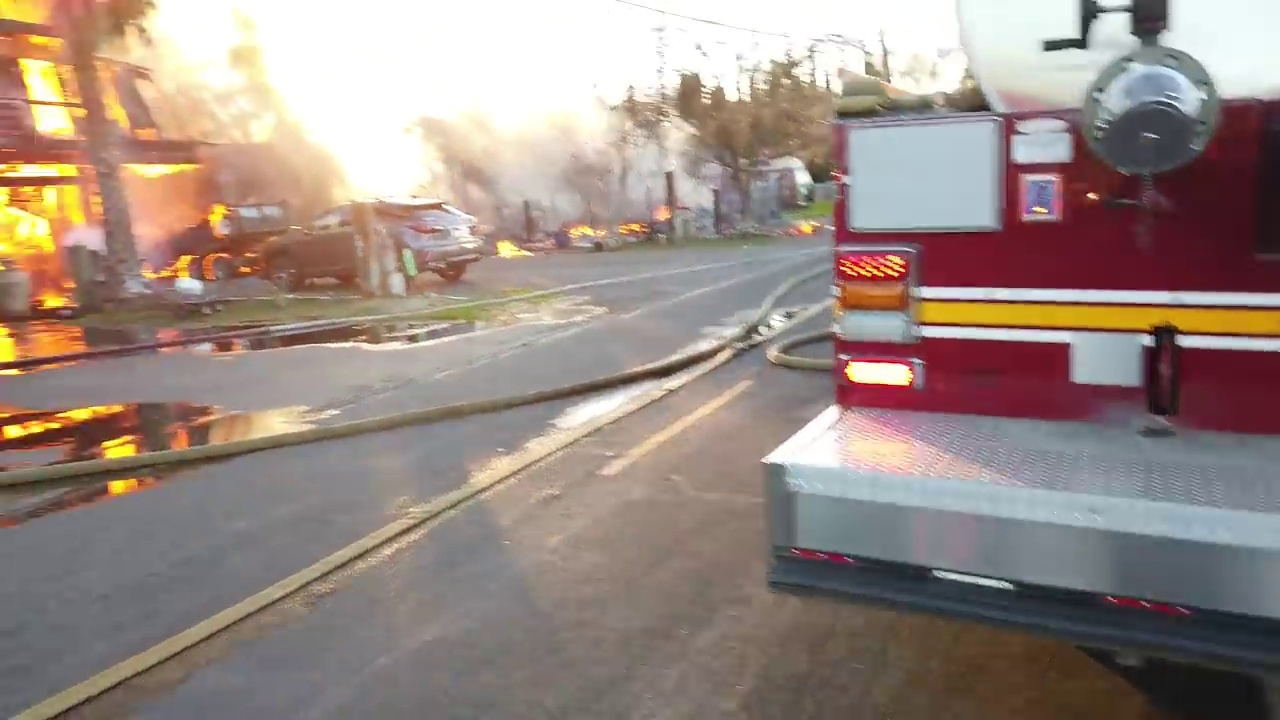fire: (1, 1, 232, 530), (780, 215, 823, 236), (492, 237, 536, 256), (566, 221, 608, 237), (617, 221, 647, 233)
smoke: (325, 114, 449, 203)
